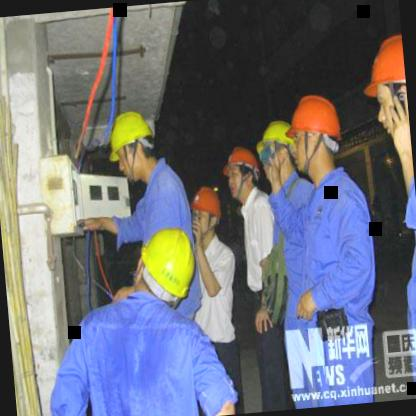helmet: (364, 30, 412, 164), (130, 222, 200, 311), (285, 86, 347, 176), (102, 104, 162, 184), (220, 142, 265, 204), (258, 114, 298, 180), (190, 182, 224, 240)
